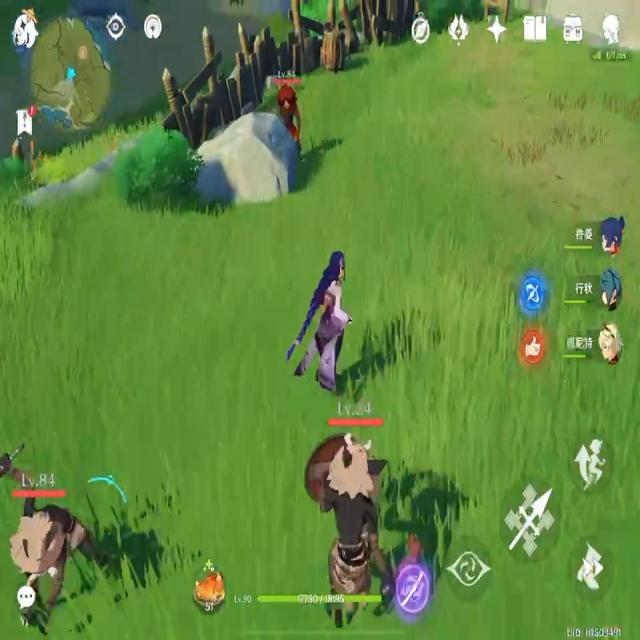genshin-hilichurls: (303, 401, 393, 600), (5, 446, 99, 598), (269, 63, 314, 154)
